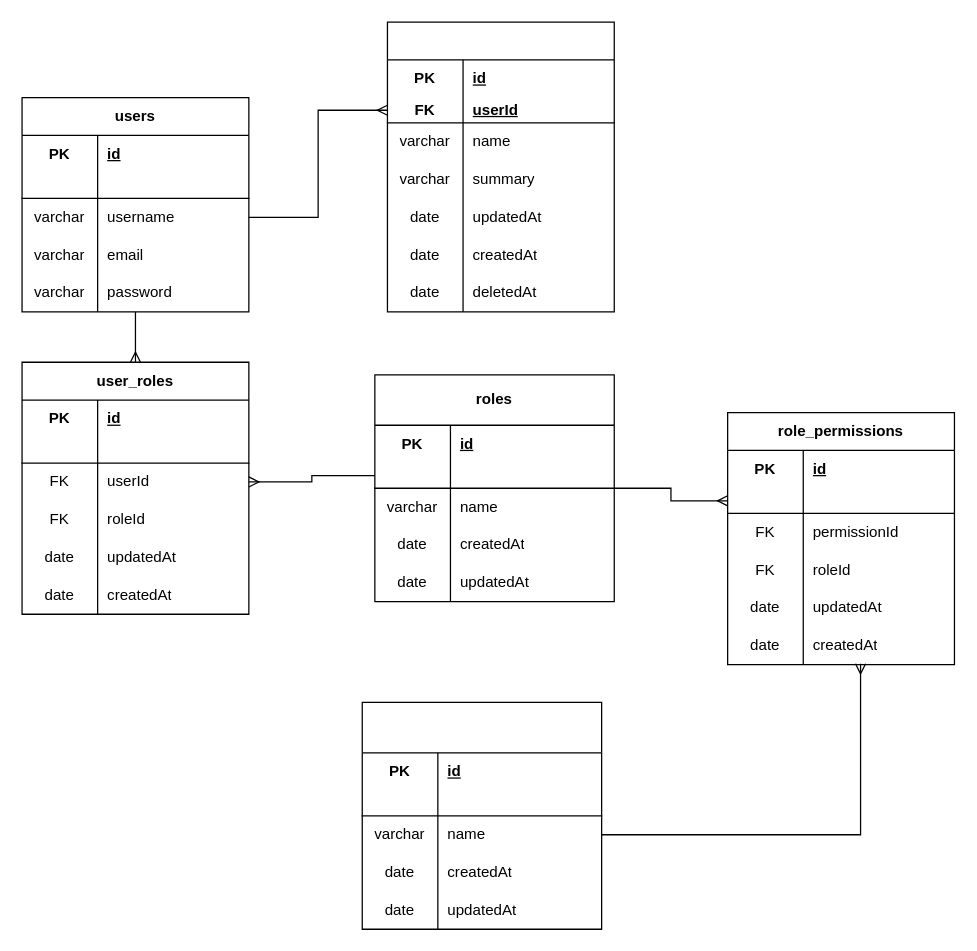
This 977x951 diagram has some shape labels left out. The box of each missing label's shape, as (x1, y1, x2, y2) in pixels:
permissions: (361, 701, 602, 929)
tasks: (386, 21, 614, 312)
